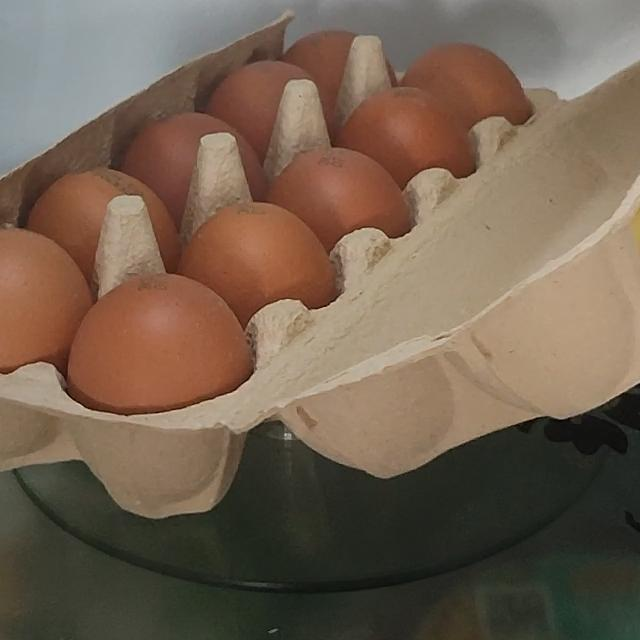egg: (0, 0, 640, 528)
